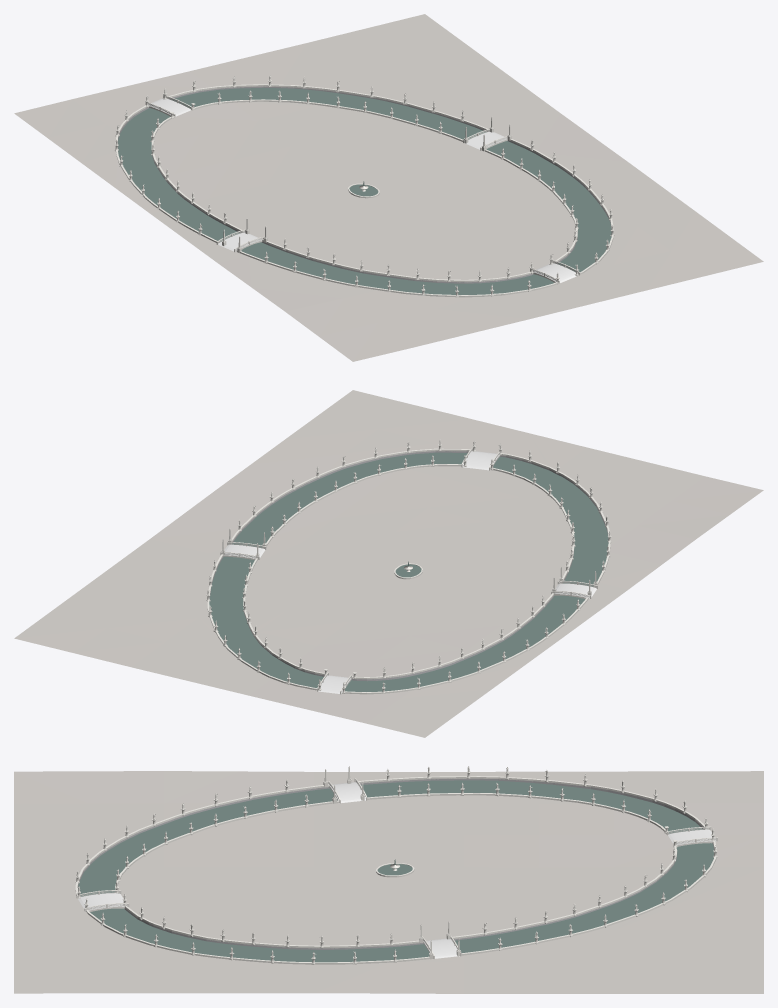
Rendered from PratoDellaValle.fbx.
3 renders of one model, top to bottom at view 1: azimuth 30°, elevation 25°; view 2: azimuth 150°, elevation 25°; view 3: azimuth 270°, elevation 25°, orthographic. The views are drawn at different scales.
Parts seen in each view (by area): view 1: Prato_Ground, Prato_Water, Prato; view 2: Prato_Ground, Prato_Water, Prato; view 3: Prato_Ground, Prato_Water, Prato.
Boxes of the visible parts, x1,y1,x2,y2 form: Prato_Ground: [14, 14, 763, 361]; Prato_Water: [118, 87, 611, 294]; Prato: [114, 75, 614, 297]; Prato_Ground: [14, 390, 763, 737]; Prato_Water: [209, 452, 608, 691]; Prato: [206, 440, 611, 694]; Prato_Ground: [14, 771, 763, 993]; Prato_Water: [78, 780, 713, 962]; Prato: [75, 766, 717, 964].
Size of what is drawn, in the model's own units: 175 by 8.52 by 250.
